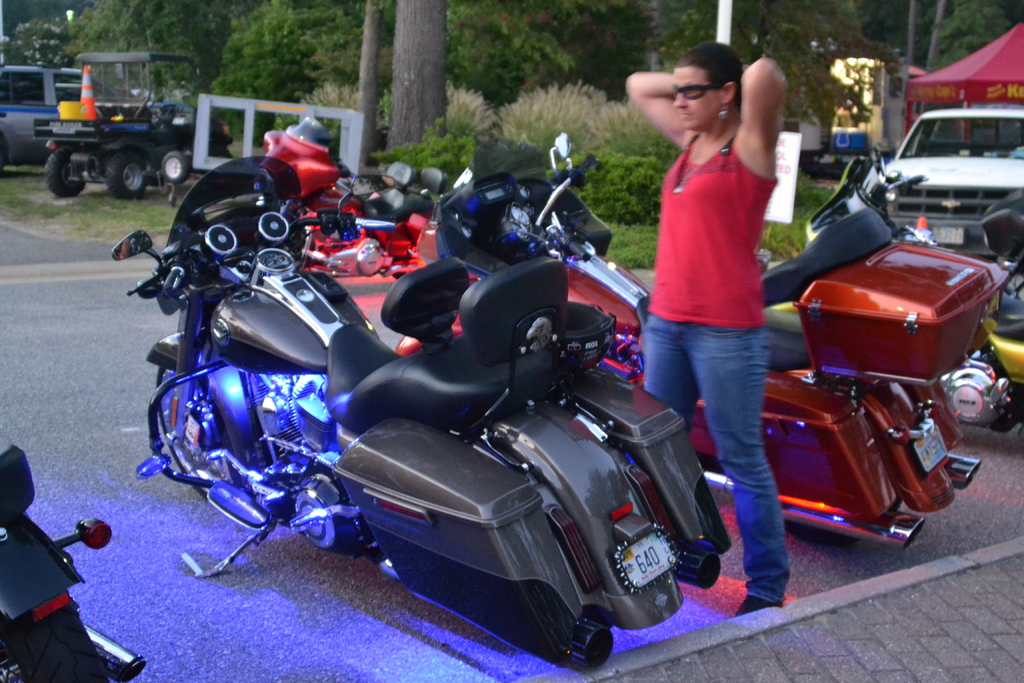Car: (864, 107, 1023, 261)
